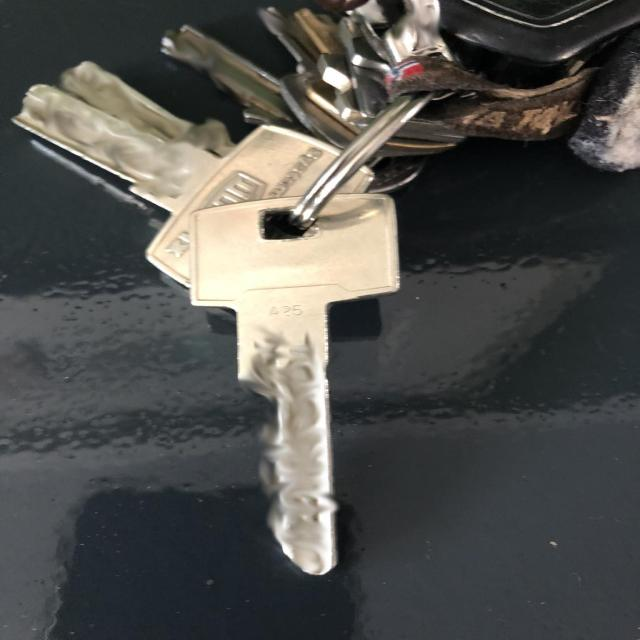Frontdoor keys: (8, 56, 376, 313), (188, 191, 400, 573)
